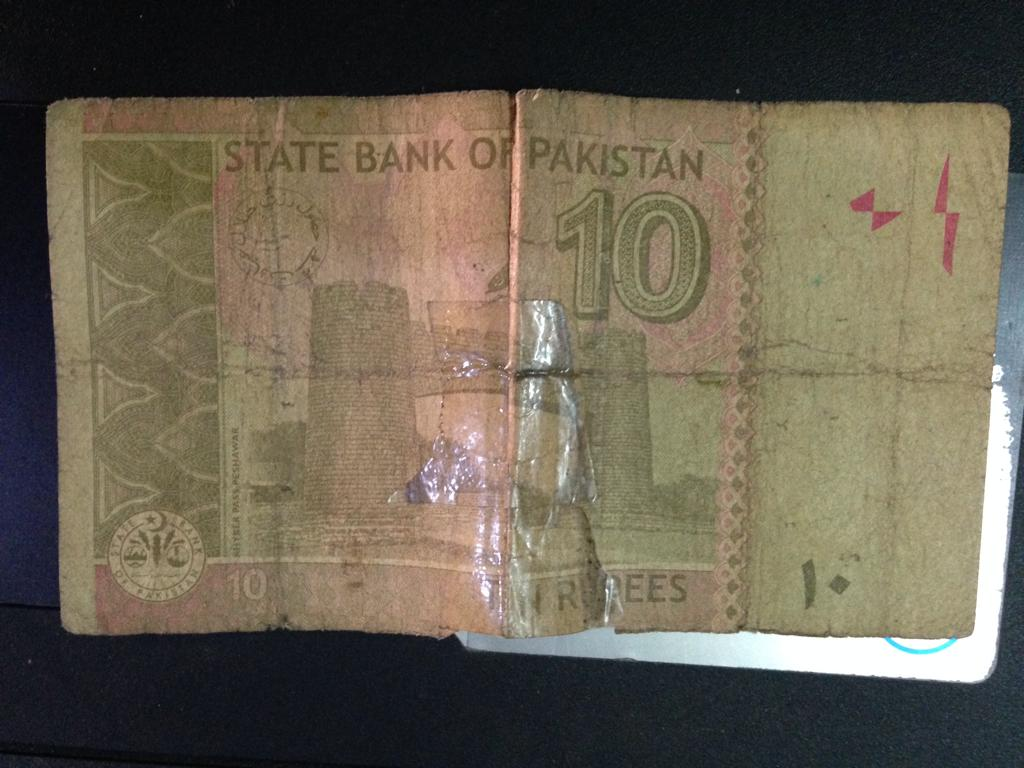10 rupee: (22, 69, 984, 716)
